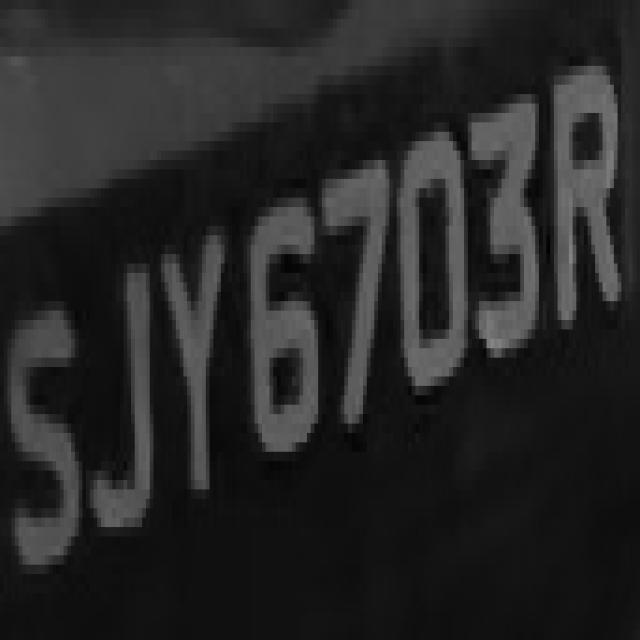0: (386, 150, 464, 424)
3: (464, 85, 539, 376)
6: (254, 170, 322, 490)
7: (318, 141, 397, 480)
J: (86, 216, 157, 546)
R: (539, 47, 621, 348)
S: (15, 264, 86, 602)
Y: (157, 217, 232, 527)
